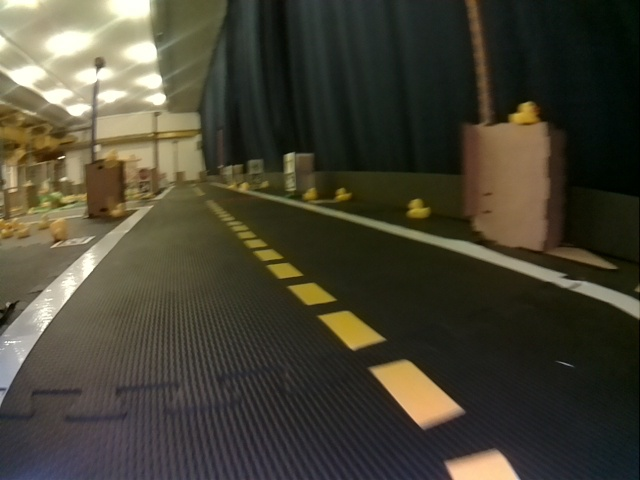Duckie: (508, 102, 539, 123), (408, 199, 429, 218), (51, 219, 68, 237), (303, 188, 316, 200), (337, 188, 350, 199), (111, 203, 123, 214), (38, 215, 48, 228), (17, 226, 29, 235), (4, 226, 12, 236), (108, 150, 116, 160), (229, 183, 237, 190), (241, 183, 248, 190)
Intersection sign: (286, 155, 294, 170)
QR code: (51, 237, 95, 246), (285, 172, 294, 189), (138, 181, 148, 194)
Stop sign: (138, 168, 150, 180)
